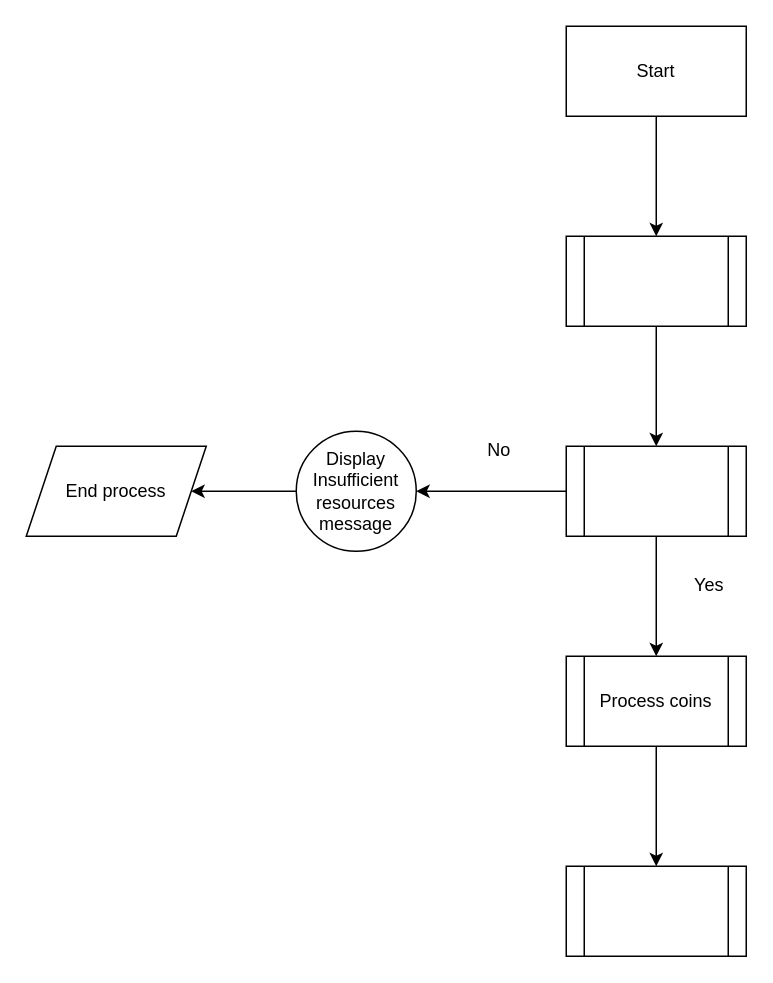
The diagram is 773 pixels wide and 983 high, and some of its shapes have lost their labels. Here are the shapes that lost their labels. From the top down, the box of each, then its label:
(565, 235, 746, 326): Print report
(565, 445, 746, 536): Check sufficient resources
